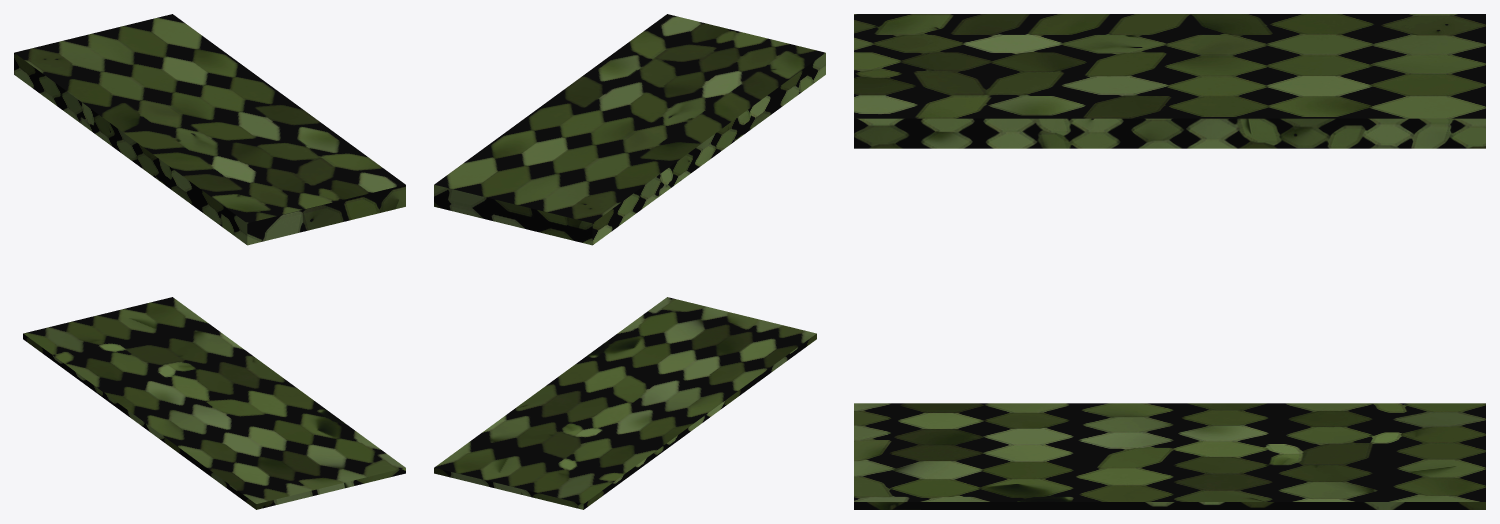
Rendered from modern_scandinavian_kitchen_island_17.obj.
3 views of the same model, side by side, from view 1: azimuth 30°, elevation 25°; view 2: azimuth 150°, elevation 25°; view 3: azimuth 270°, elevation 25° (orthographic). The views are drawn at different scales.
Bounding box in the file's own units: 0.5849 × 1.02 × 1.49.
